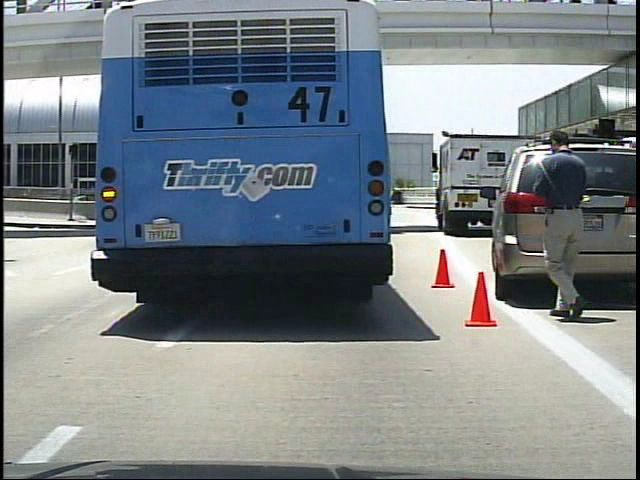person: (530, 120, 591, 321)
